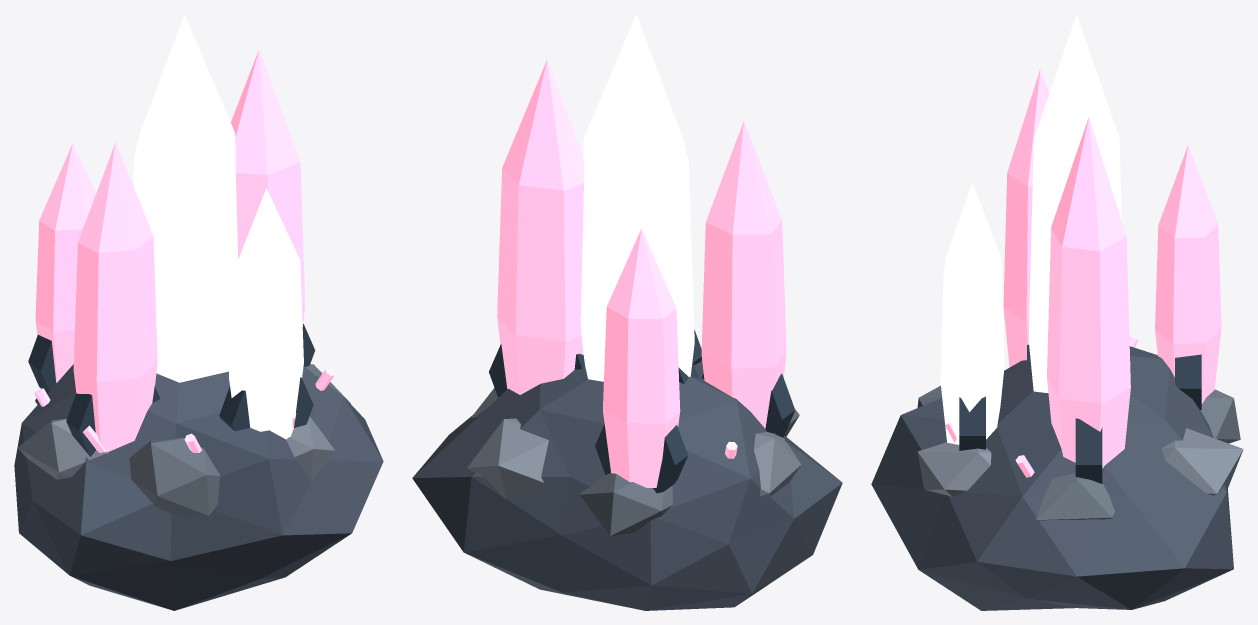
File: ore_Endurium.glb
3 renders of one model, left to right at view 1: azimuth 30°, elevation 25°; view 2: azimuth 150°, elevation 25°; view 3: azimuth 270°, elevation 25°, orthographic. The views are drawn at different scales.
Parts seen in each view (by area): view 1: root_fractured_asteroid, crystal_main_0, crystal_main_1, crystal_main_3, crystal_main_2, crystal_main_4, rock_armor_2, rock_armor_3, rock_armor_1, crystal_socket_3, crystal_socket_1, crystal_socket_4; view 2: root_fractured_asteroid, crystal_main_0, crystal_main_2, crystal_main_1, crystal_main_4, rock_armor_5, rock_armor_4, rock_armor_3, crystal_socket_4, crystal_socket_1, crystal_socket_2; view 3: root_fractured_asteroid, crystal_main_2, crystal_main_0, crystal_main_3, crystal_main_4, crystal_main_1, rock_armor_5, rock_armor_1, rock_armor_0, crystal_socket_2, rock_armor_4, crystal_socket_3 (+1 smaller).
Boxes of the visible parts, x1,y1,x2,y2 form: root_fractured_asteroid: (14, 364, 383, 610); crystal_main_0: (133, 14, 238, 382); crystal_main_1: (73, 142, 157, 451); crystal_main_3: (229, 188, 303, 439); crystal_main_2: (230, 50, 305, 326); crystal_main_4: (35, 143, 96, 382); rock_armor_2: (129, 437, 220, 516); rock_armor_3: (18, 418, 108, 479); rock_armor_1: (286, 416, 335, 481); crystal_socket_3: (219, 377, 313, 431); crystal_socket_1: (66, 386, 160, 456); crystal_socket_4: (28, 335, 56, 393); root_fractured_asteroid: (412, 360, 842, 610); crystal_main_0: (580, 14, 694, 381); crystal_main_2: (497, 60, 583, 394); crystal_main_1: (701, 121, 786, 428); crystal_main_4: (603, 228, 680, 487); rock_armor_5: (467, 418, 548, 499); rock_armor_4: (580, 473, 672, 535); rock_armor_3: (754, 432, 801, 496); crystal_socket_4: (595, 424, 687, 493); crystal_socket_1: (701, 373, 795, 437); crystal_socket_2: (489, 344, 584, 397); root_fractured_asteroid: (871, 346, 1233, 610); crystal_main_2: (1047, 117, 1130, 468); crystal_main_0: (1029, 14, 1121, 392); crystal_main_3: (940, 182, 1004, 444); crystal_main_4: (1155, 145, 1221, 403); crystal_main_1: (1003, 69, 1048, 367); rock_armor_5: (1161, 428, 1243, 495); rock_armor_1: (917, 442, 991, 496); rock_armor_0: (1010, 473, 1114, 520); crystal_socket_2: (1075, 418, 1102, 483); rock_armor_4: (1200, 389, 1240, 443); crystal_socket_3: (959, 396, 985, 450).
Size of the model in its own units: 1.66 by 2.61 by 1.54.
